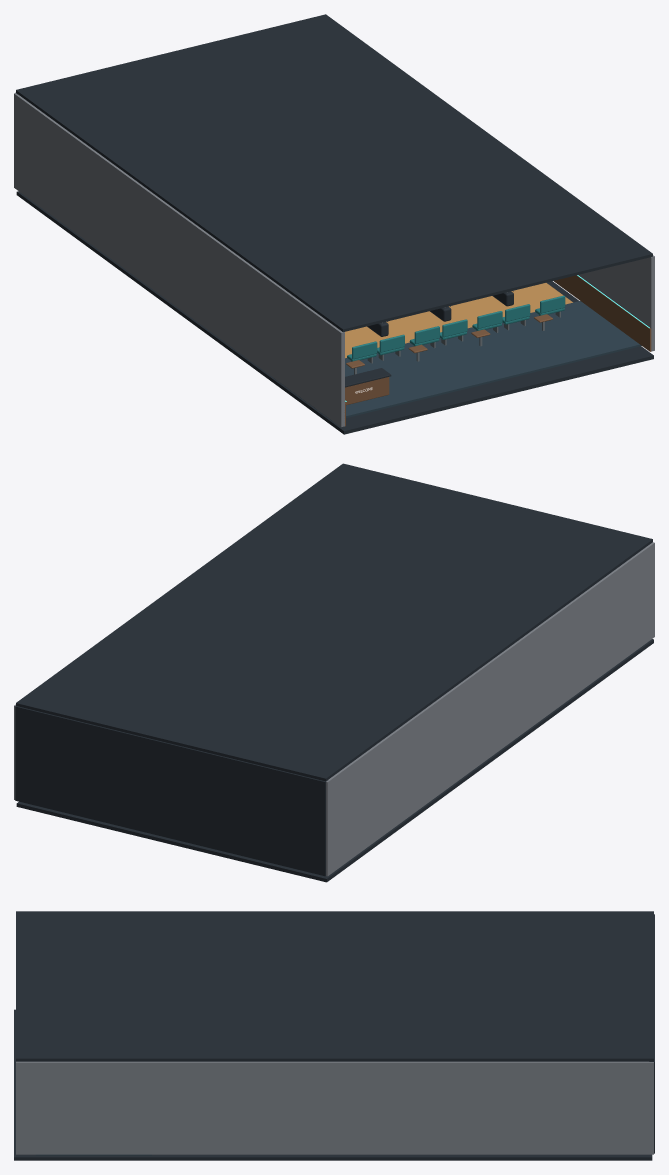
The model's file is BowlingHallEnvironment.fbx.
3 renders of one model, top to bottom at view 1: azimuth 30°, elevation 25°; view 2: azimuth 150°, elevation 25°; view 3: azimuth 270°, elevation 25°, orthographic. The views are drawn at different scales.
Parts seen in each view (by area): view 1: Ceiling, LeftWall, LoungeFloor, Foundation, Approach, RightWall, Wall_Walnut_Base.001, ReceptionDesk; view 2: Ceiling, LeftWall, BackWall, Foundation; view 3: Ceiling, RightWall, Foundation.
Boxes of the visible parts, x1,y1,x2,y2 form: Ceiling: (16,14,652,332); LeftWall: (14,93,344,427); LoungeFloor: (285,301,641,420); Foundation: (16,191,653,434); Approach: (345,283,572,358); RightWall: (578,255,654,351); Wall_Walnut_Base.001: (554,275,651,351); ReceptionDesk: (345,377,389,405); Ceiling: (16,463,652,781); LeftWall: (326,542,654,876); BackWall: (15,706,327,876); Foundation: (16,639,653,882); Ceiling: (16,911,653,1061); RightWall: (16,1061,653,1154); Foundation: (14,1009,652,1160).
Size of the model in its own units: 1882 by 599 by 3415.
